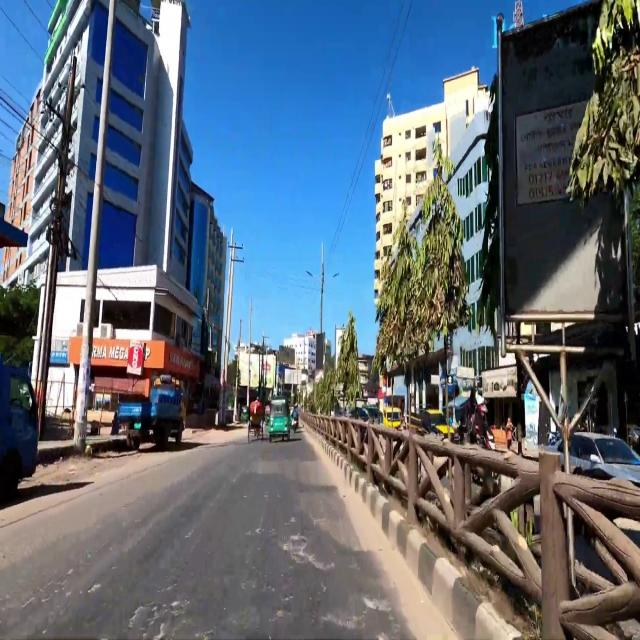silver: (542, 425, 640, 481)
